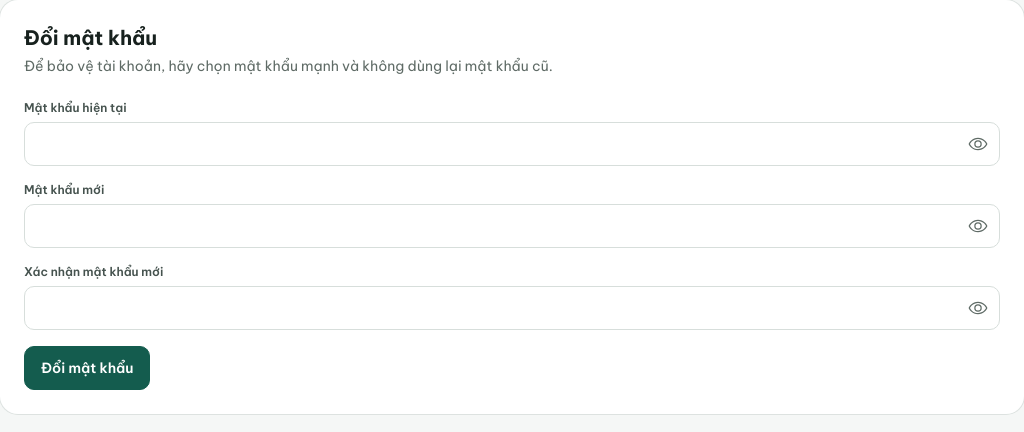
Test case: ChangePasswordForm › khoá nút khi đang gửi để không bấm được hai lần
In the password field labelled "Mật khẩu hiện tại": [512, 144] box [24,122,1000,166], type "MatKhauCu@1"
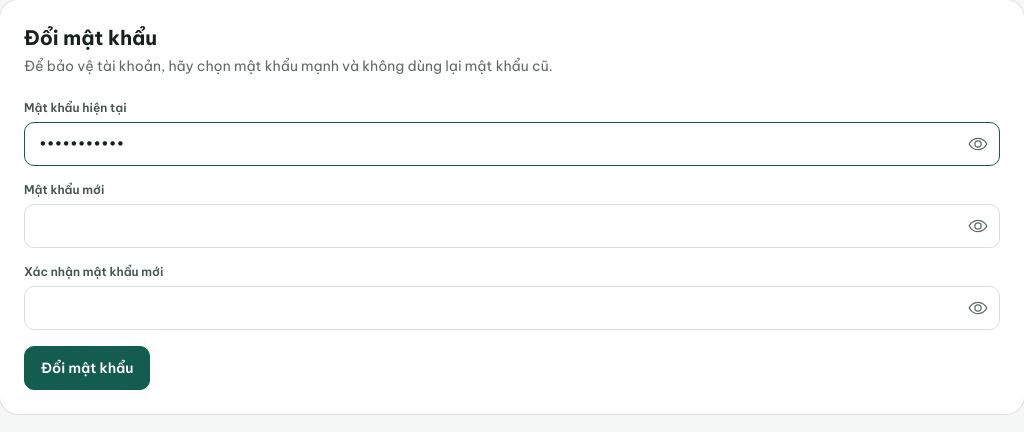
In the password field labelled "Mật khẩu mới": [512, 226] box [24,204,1000,248], type "MatKhauMoi@2"
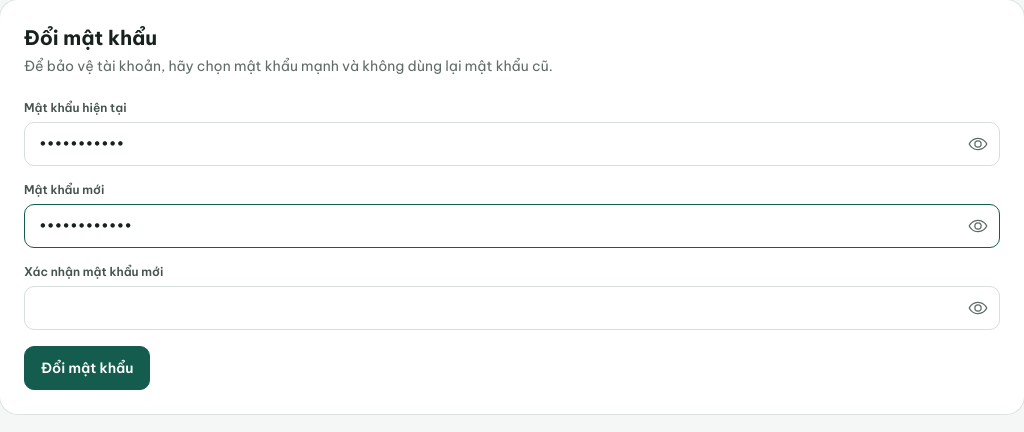
In the password field labelled "Xác nhận mật khẩu mới": [512, 308] box [24,286,1000,330], type "MatKhauMoi@2"
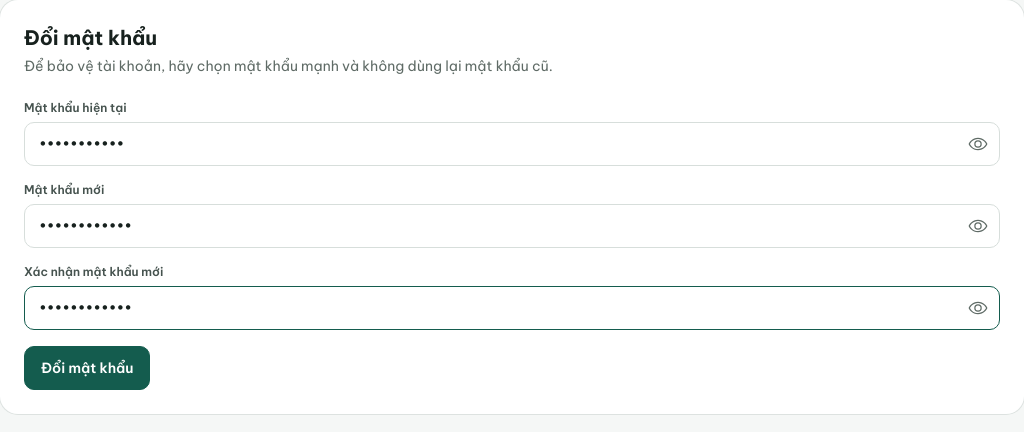
Click the button "Đổi mật khẩu": [87, 368] box [24,346,150,390]
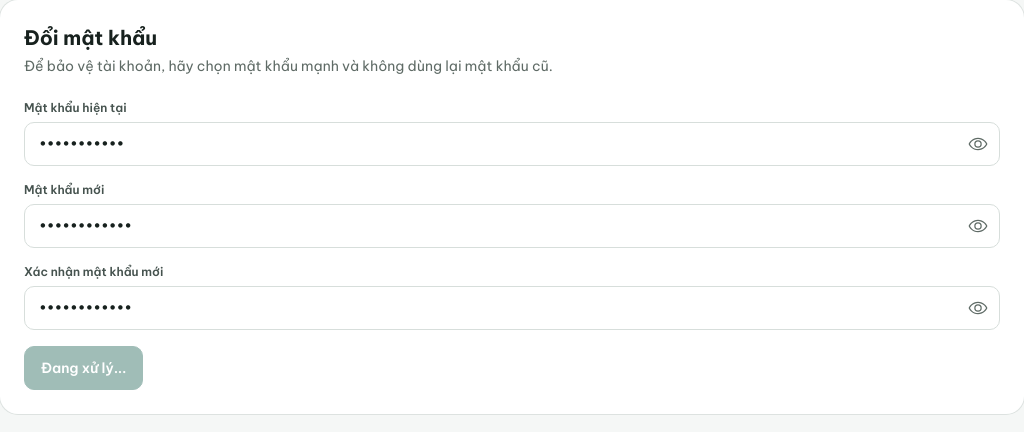
Expected: the button "Đang xử lý..." is disabled, [24,346,143,390]
